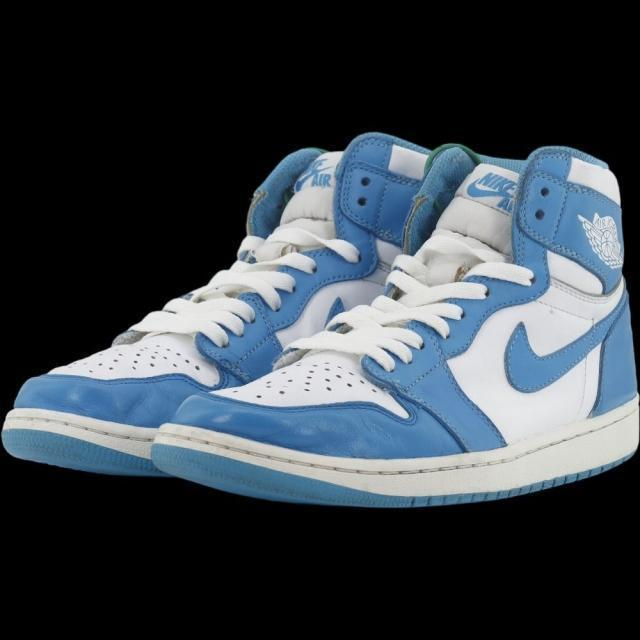nike original jordan 1: (153, 142, 640, 516), (0, 133, 451, 480)
